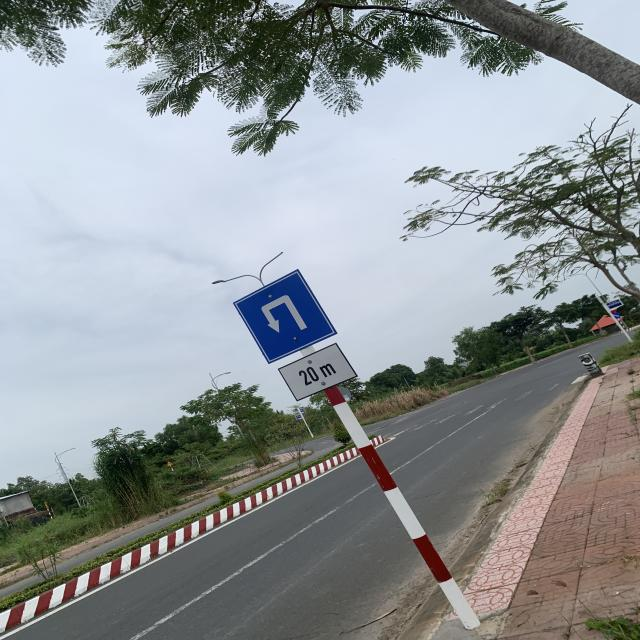Den_Giao_Thong: (234, 270, 338, 365)
